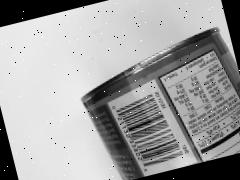metal: (49, 10, 240, 180)
